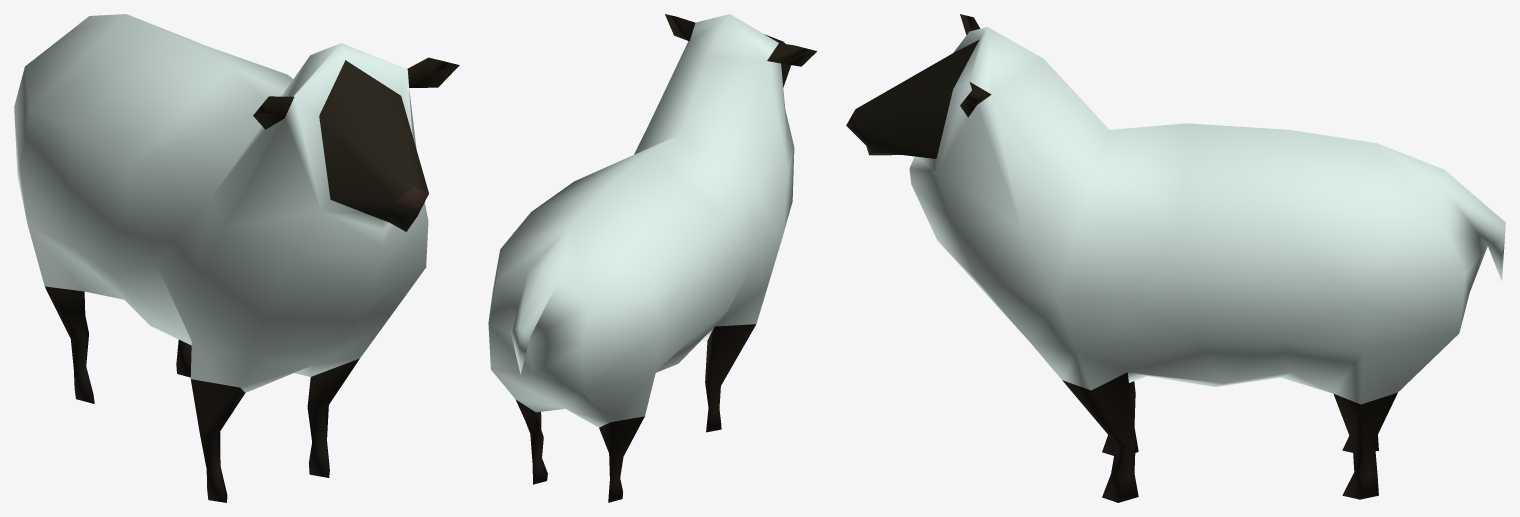
The model's file is Sheep7.obj.
3 renders of one model, left to right at view 1: azimuth 30°, elevation 25°; view 2: azimuth 150°, elevation 25°; view 3: azimuth 270°, elevation 25°, orthographic. The views are drawn at different scales.
Parts seen in each view (by area): view 1: Sheep_ver2; view 2: Sheep_ver2; view 3: Sheep_ver2.
Part boxes in pixels (bbox=[...]): Sheep_ver2: bbox=[14, 14, 459, 502]; Sheep_ver2: bbox=[488, 14, 816, 502]; Sheep_ver2: bbox=[846, 14, 1505, 502].
Bounding box in the file's own units: 0.4836 × 0.9988 × 1.33.
